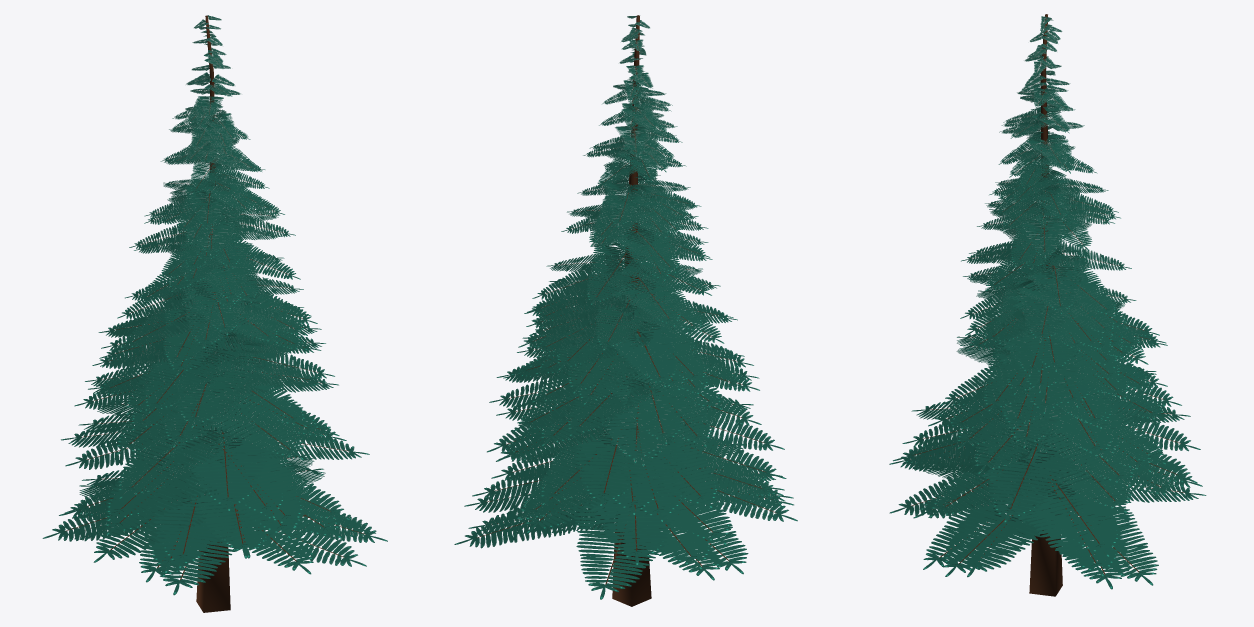
File: pine_tree_LOD0.fbx
3 renders of one model, left to right at view 1: azimuth 30°, elevation 25°; view 2: azimuth 150°, elevation 25°; view 3: azimuth 270°, elevation 25°, orthographic. The views are drawn at different scales.
Parts seen in each view (by area): view 1: Pine_Tree_LOD0; view 2: Pine_Tree_LOD0; view 3: Pine_Tree_LOD0.
Boxes of the visible parts, box(x1,y1,x2,y2) form: Pine_Tree_LOD0: box(42, 15, 387, 612); Pine_Tree_LOD0: box(454, 15, 797, 606); Pine_Tree_LOD0: box(889, 14, 1206, 596).
Bounding box in the file's own units: 443 × 710 × 432.
Materials: 2 (1 with a texture image).
